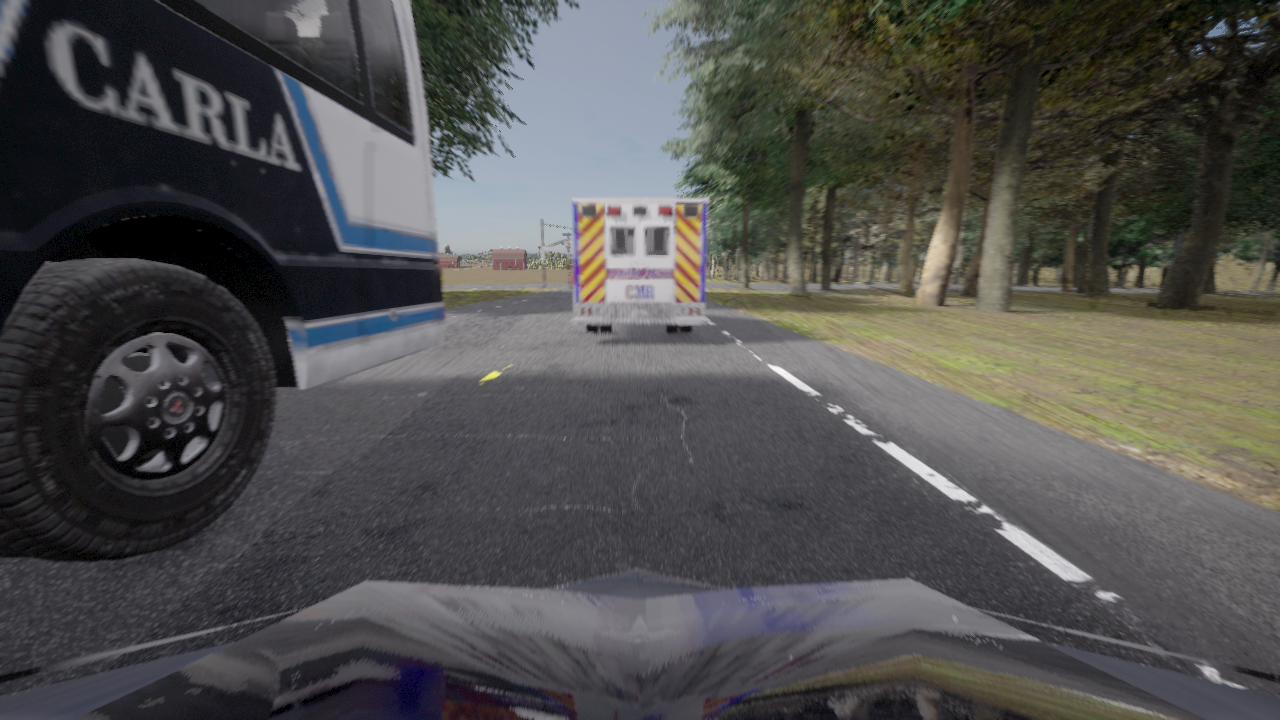cyclist: (0, 570, 1279, 719), (572, 198, 707, 333), (568, 264, 573, 292)
